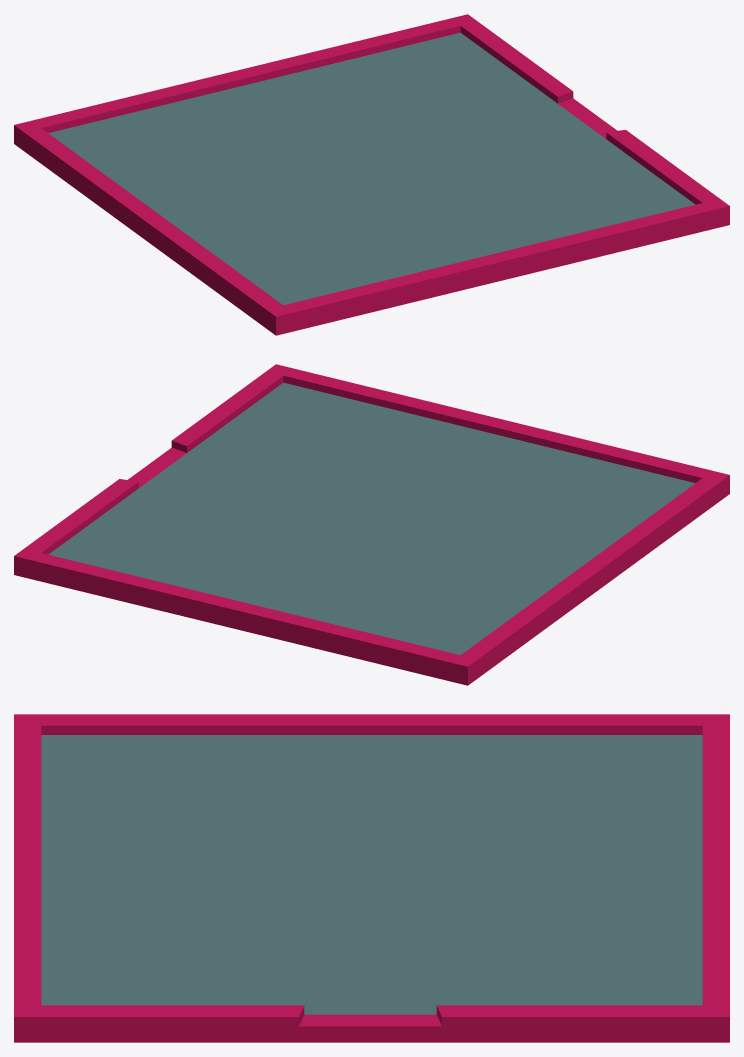
File: sqr_arena.fbx
3 renders of one model, top to bottom at view 1: azimuth 30°, elevation 25°; view 2: azimuth 150°, elevation 25°; view 3: azimuth 270°, elevation 25°, orthographic. The views are drawn at different scales.
Visible parts, largest first — view 1: arena; view 2: arena; view 3: arena.
Part boxes in pixels (x1,y1,x2,y2): arena: [14, 14, 729, 335]; arena: [14, 364, 729, 685]; arena: [14, 714, 729, 1042].
Size of the model in its own units: 125 by 5 by 125.
